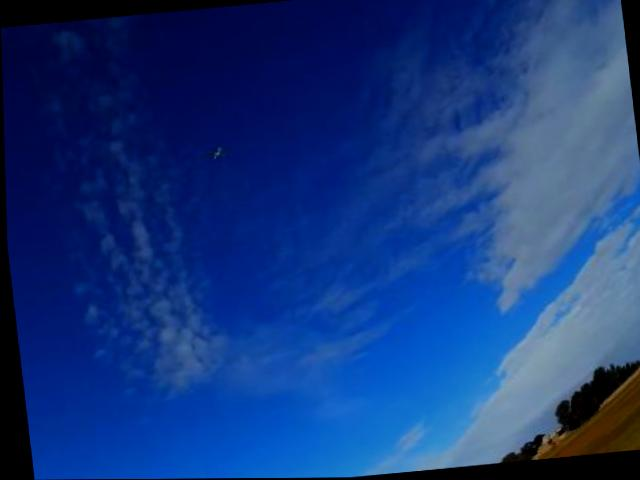uav: (201, 140, 230, 168)
